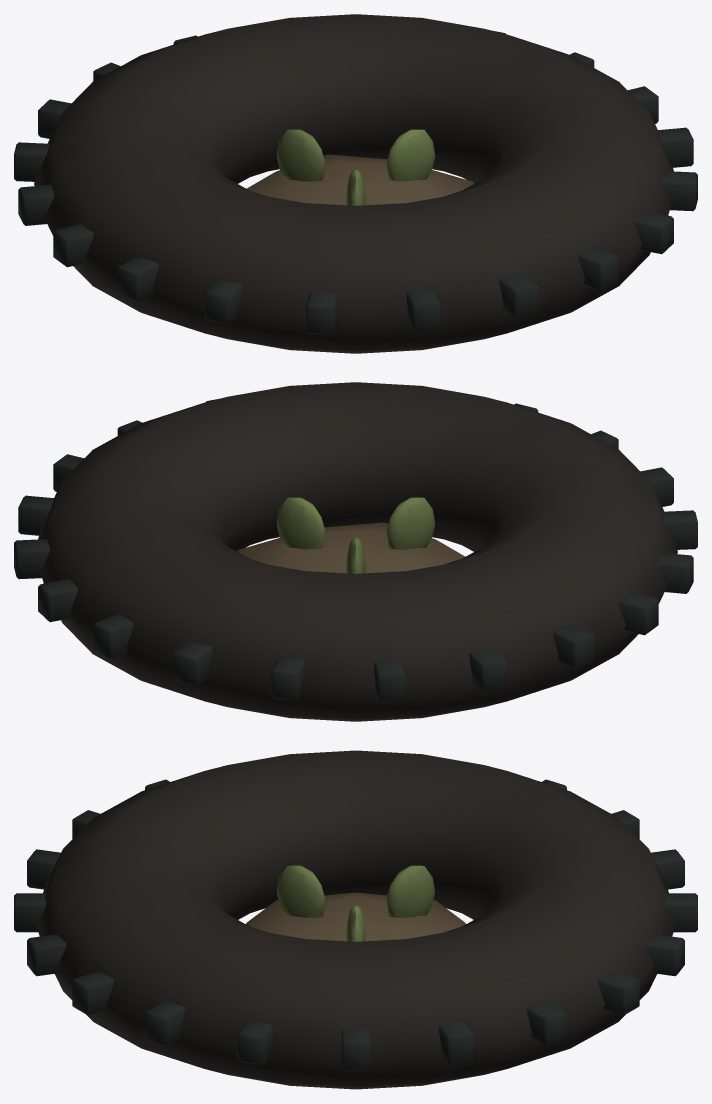
File: haul_tyre_a.glb
3 renders of one model, top to bottom at view 1: azimuth 30°, elevation 25°; view 2: azimuth 150°, elevation 25°; view 3: azimuth 270°, elevation 25°, orthographic.
Visible parts, largest first — view 1: Surface; view 2: Surface; view 3: Surface.
Boxes of the visible parts, x1,y1,x2,y2 form: Surface: (14,14,697,353); Surface: (14,382,697,721); Surface: (14,750,697,1089).
Bounding box in the file's own units: 4.32 × 0.9227 × 4.32.
